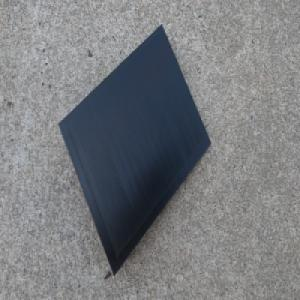PlasticPart: (57, 23, 212, 277)
